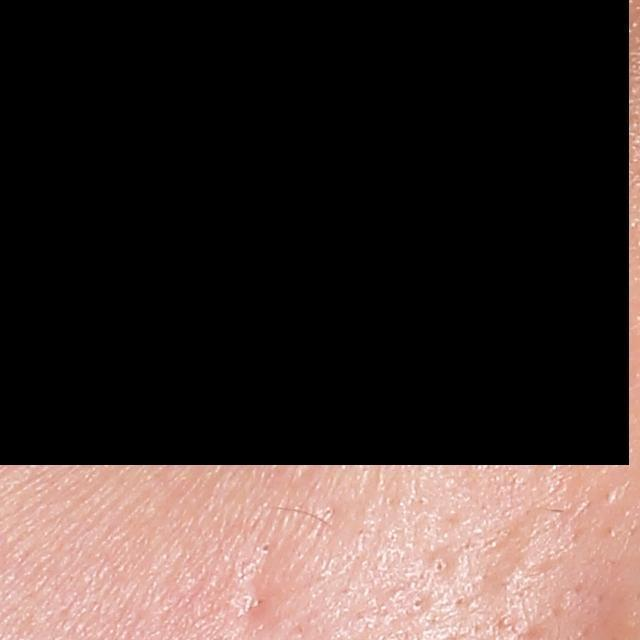atrophic_scar: (465, 510, 539, 603), (231, 571, 274, 631)
comedo: (430, 553, 451, 577), (408, 594, 425, 613), (259, 540, 271, 556)
